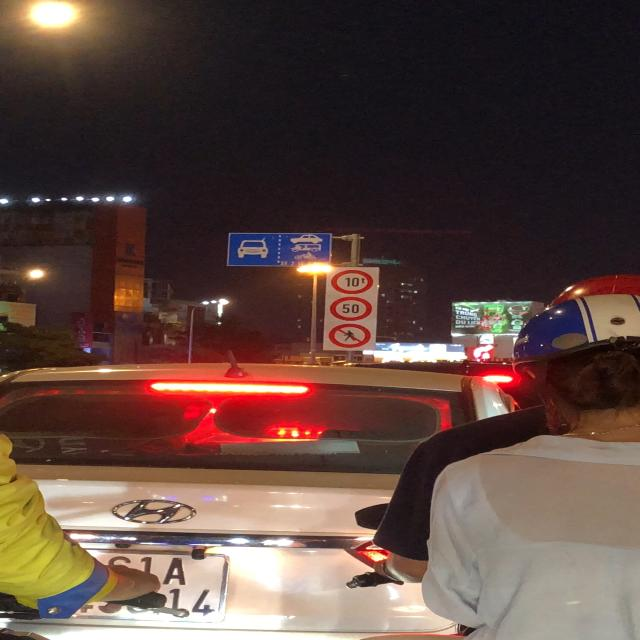Bien bao cam nguoi di bo: (329, 323, 372, 348)
Bien bao toc do toi da cho phep: (329, 296, 372, 322)
